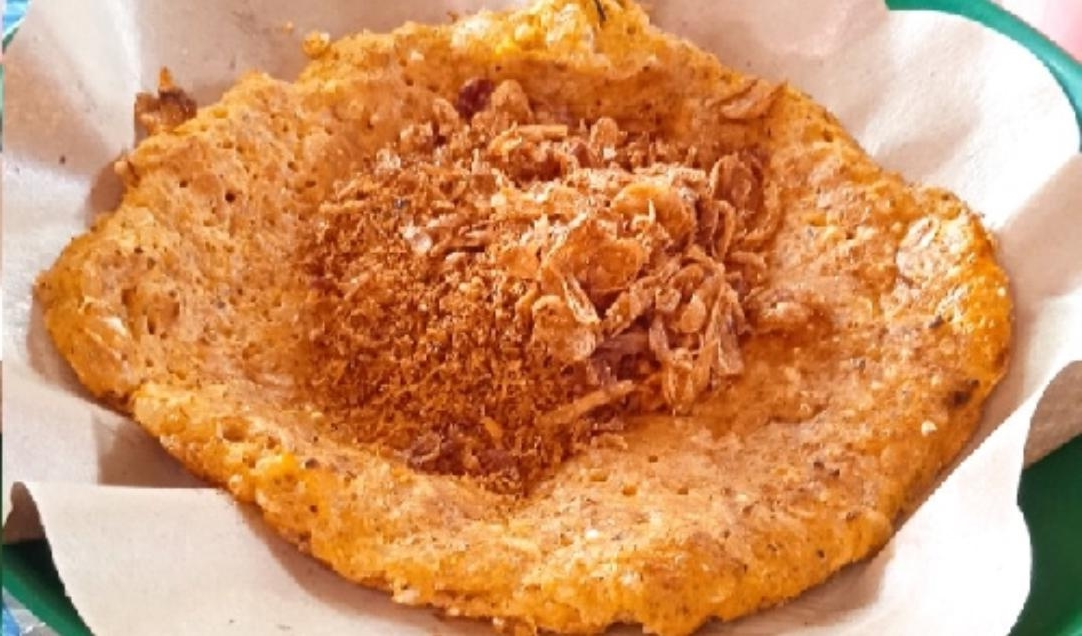kerak_telor: (35, 11, 1015, 623)
